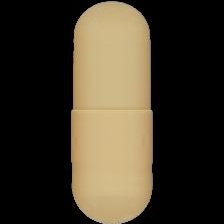0456-2240: (0, 0, 224, 224)
